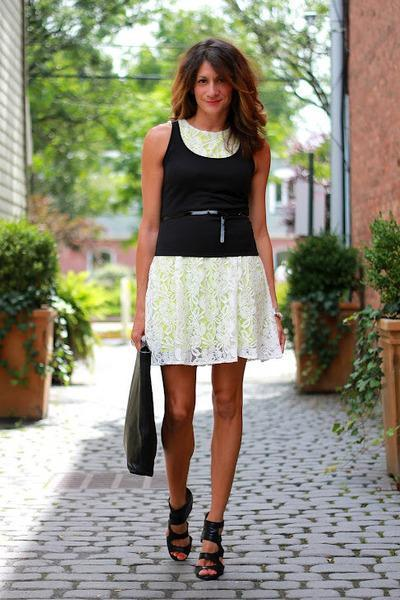bag: (124, 338, 167, 476)
dress: (142, 120, 294, 374)
shirt: (154, 132, 258, 259)
shoe: (167, 492, 235, 580)
